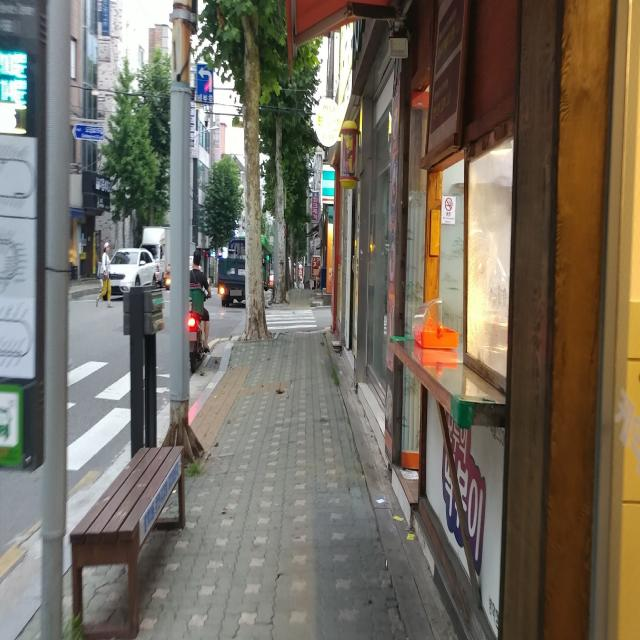횡단보도: (70, 357, 130, 464), (264, 309, 318, 331)
